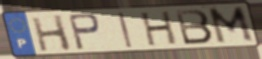B: (173, 8, 216, 47)
H: (29, 13, 74, 53), (140, 10, 179, 48)
I: (116, 11, 135, 49)
M: (206, 5, 257, 46)
P: (66, 12, 103, 52)
